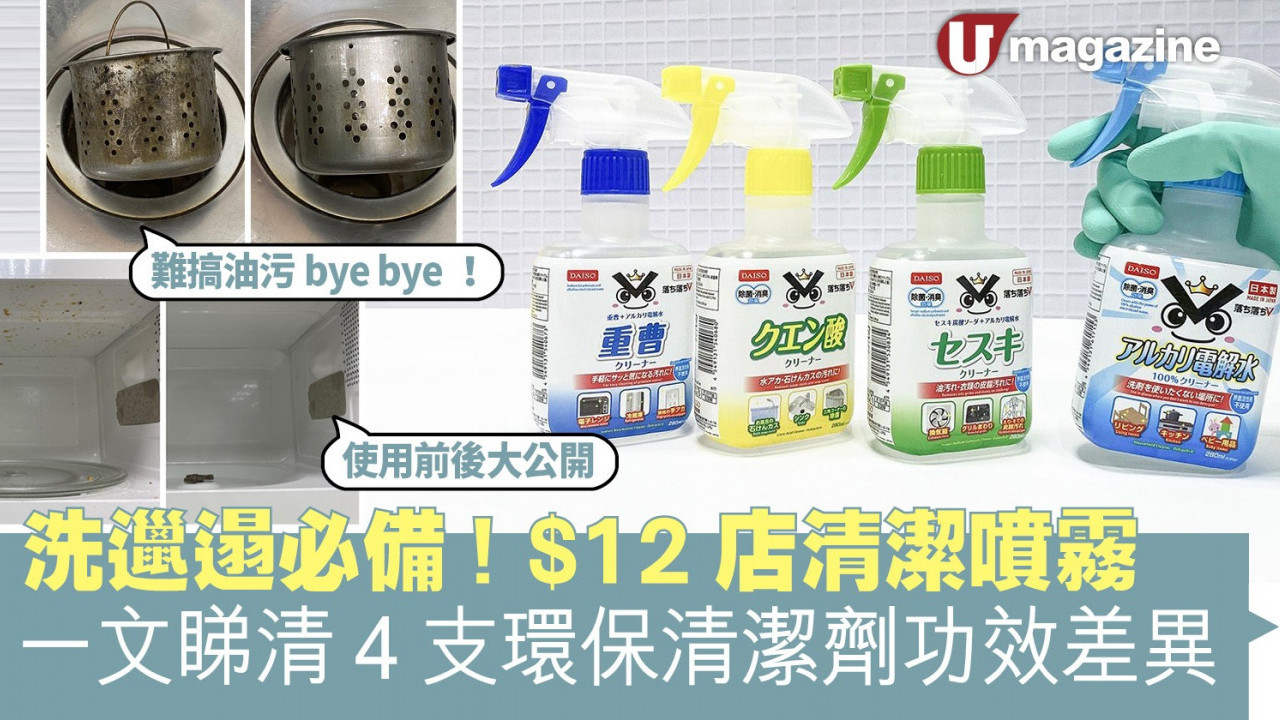cleaner: (1066, 45, 1280, 482), (824, 64, 1055, 467), (647, 54, 862, 456), (479, 60, 703, 442)
